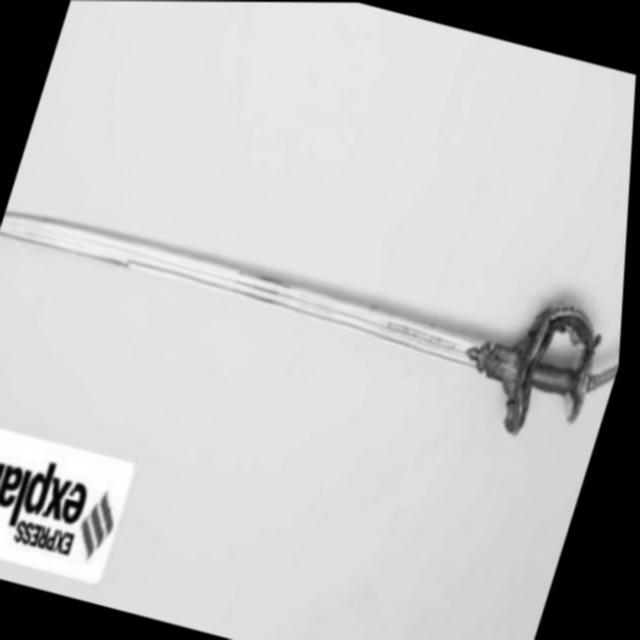weapon: (0, 155, 633, 452)
